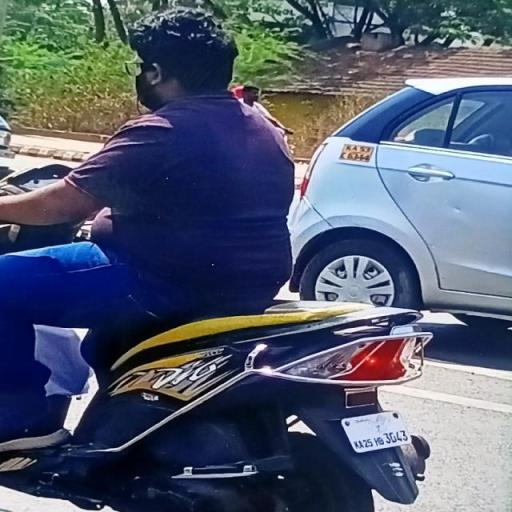bike: (6, 6, 446, 512)
numberplate: (342, 402, 416, 458)
withouthelmet: (134, 11, 235, 100)
